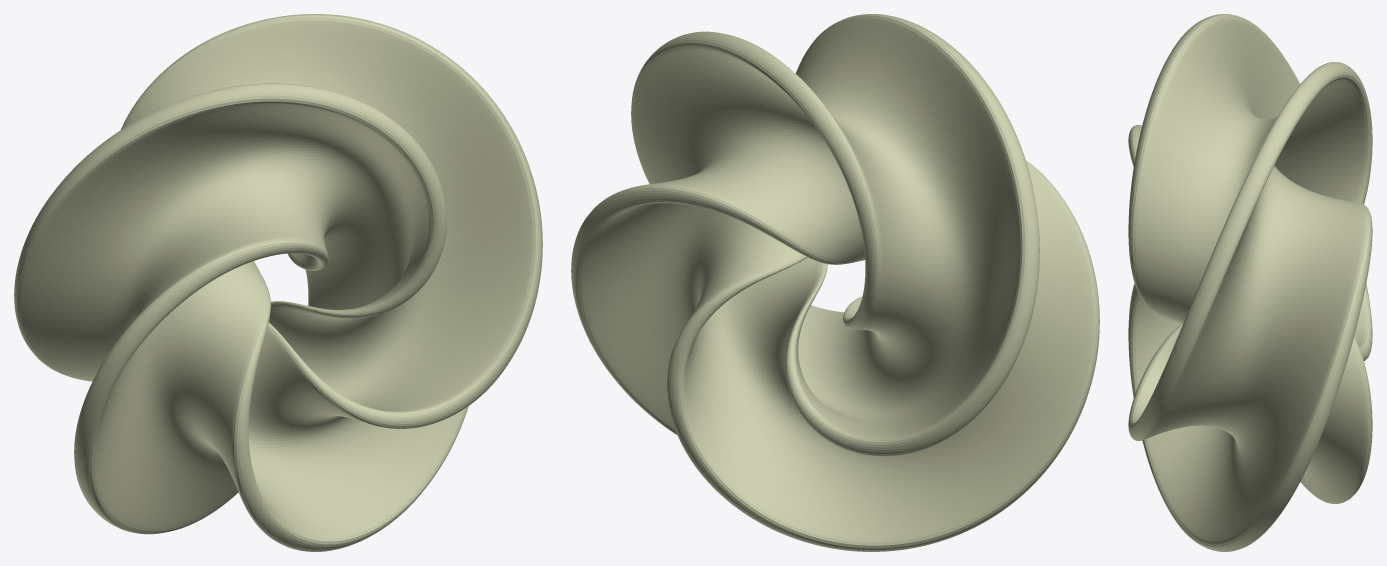
3 views of the same model, side by side, from view 1: azimuth 30°, elevation 25°; view 2: azimuth 150°, elevation 25°; view 3: azimuth 270°, elevation 25° (orthographic). The views are drawn at different scales.
Parts seen in each view (by area): view 1: Shape_71; view 2: Shape_71; view 3: Shape_71.
Boxes of the visible parts, bbox=[...] form: Shape_71: bbox=[14, 14, 542, 551]; Shape_71: bbox=[571, 14, 1099, 551]; Shape_71: bbox=[1128, 14, 1372, 551].
Size of the model in its own units: 2.81 by 2.81 by 1.36.
